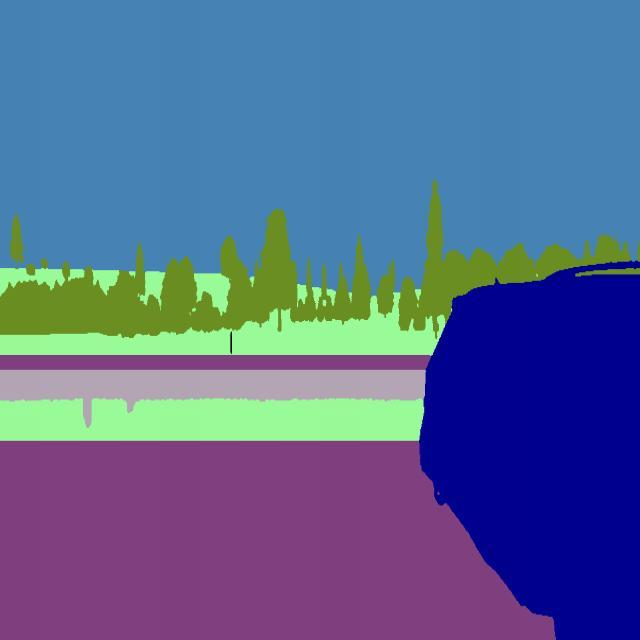unsafe: (418, 257, 640, 640)
